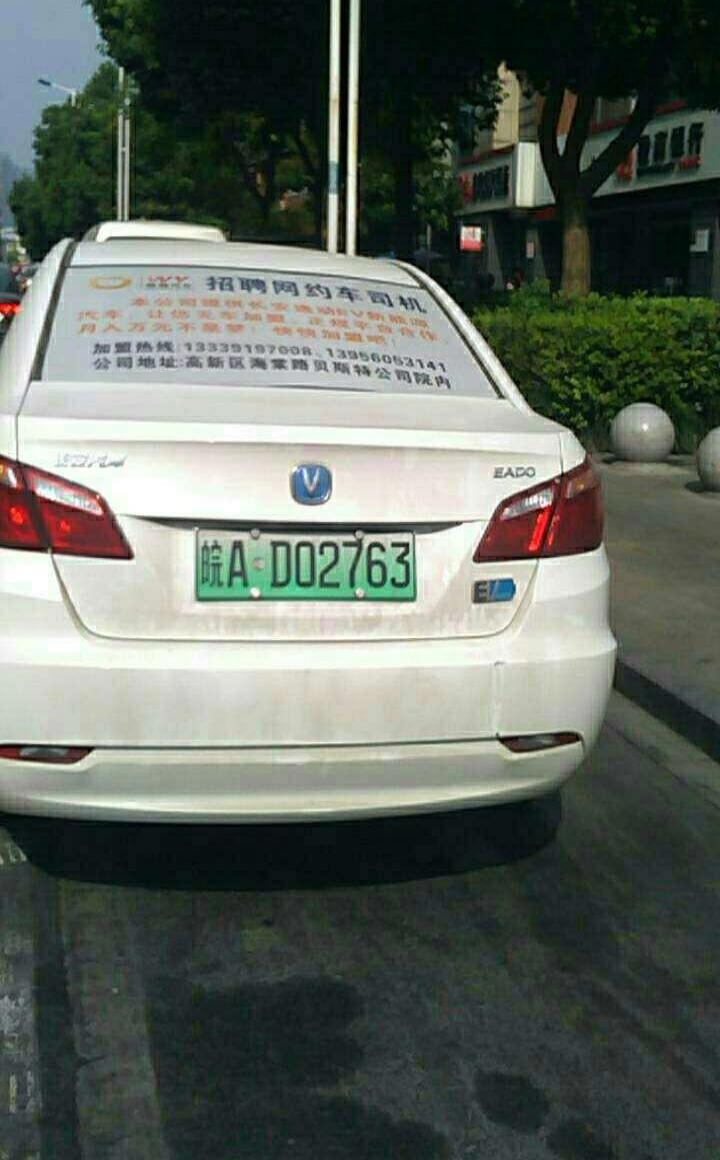car_id: (196, 518, 422, 606)
